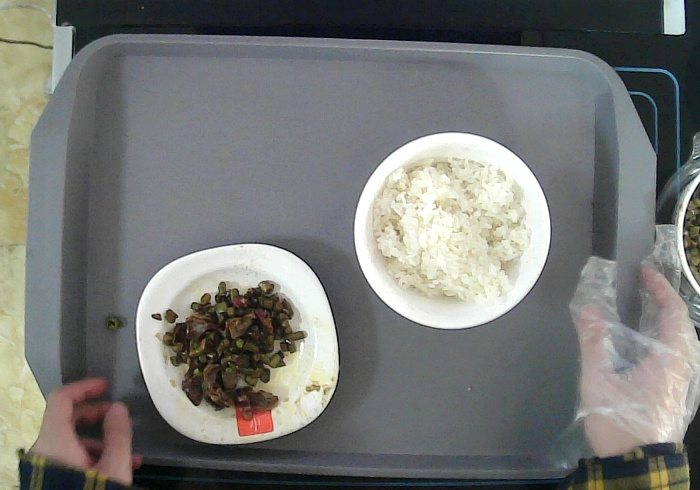SHKJ-Bai_Se_Si_Fang_Cai_Die: (133, 240, 343, 448)
SHKJ-Fan_Wan: (351, 128, 555, 333)
